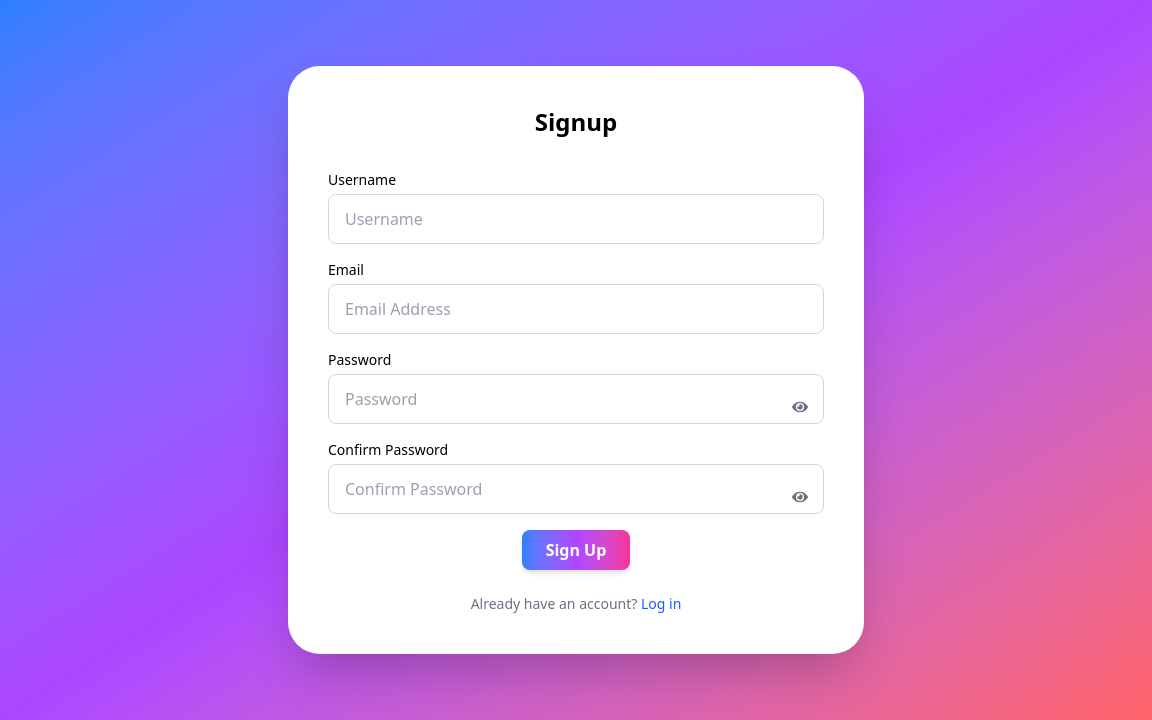
Scenario: Signup Component › shows validation error for short password
The width and height of the screenshot is (1152, 720).
Type "newuser" into the field labelled "Username". click: (576, 219)
box: x1=328 y1=194 x2=824 y2=244
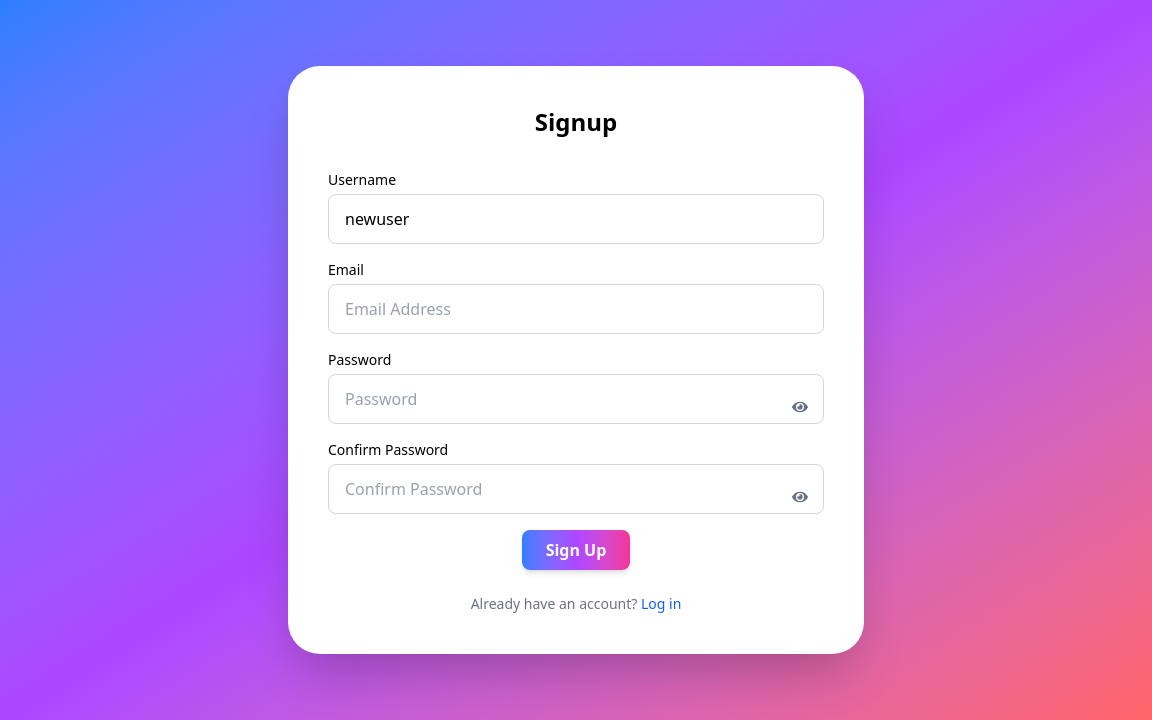
Type "newuser@example.com" into the field labelled "Email". click: (576, 309)
box: x1=328 y1=284 x2=824 y2=334
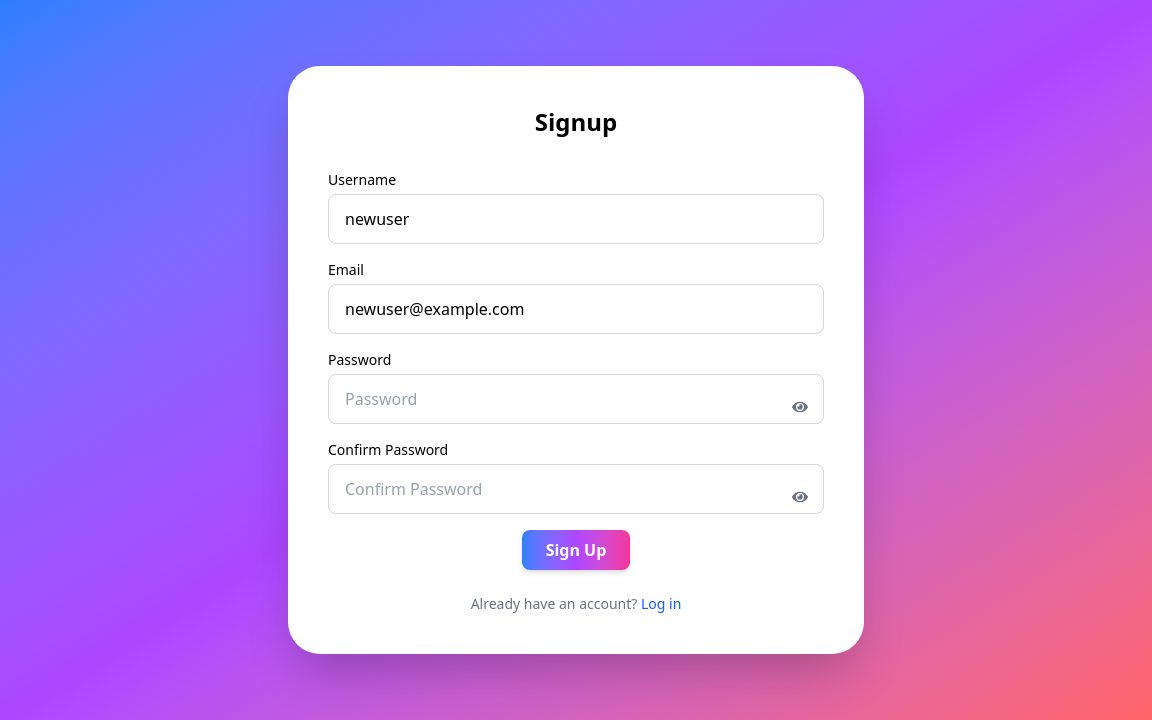
Type "short" into the password field labelled "Password". click: (576, 399)
box: x1=328 y1=374 x2=824 y2=424
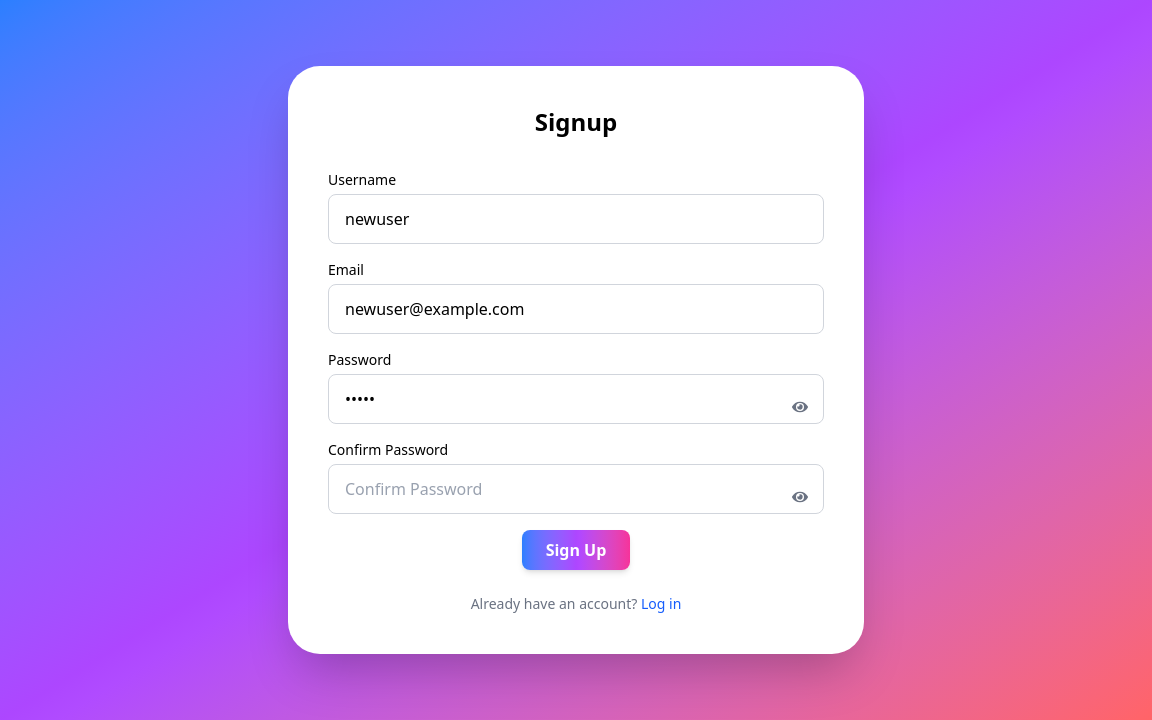
Type "short" into the password field labelled "Confirm Password". click: (576, 489)
box: x1=328 y1=464 x2=824 y2=514
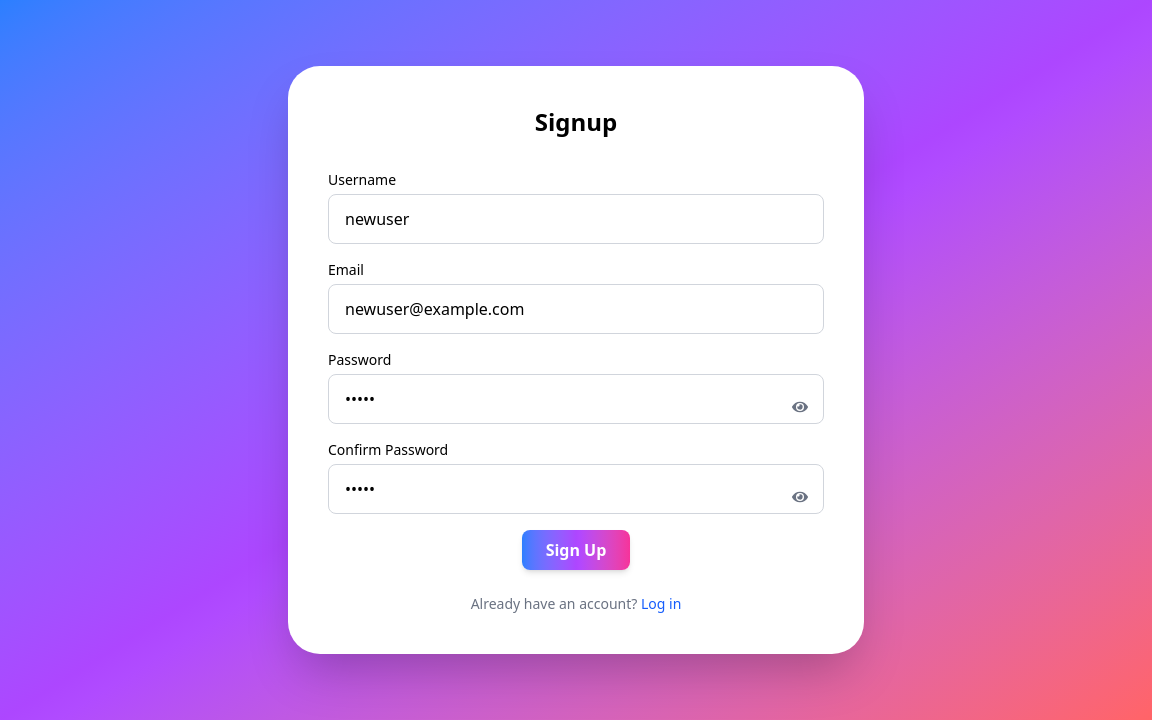
Click the button "Sign Up". click: click(576, 550)
box: x1=522 y1=530 x2=630 y2=570
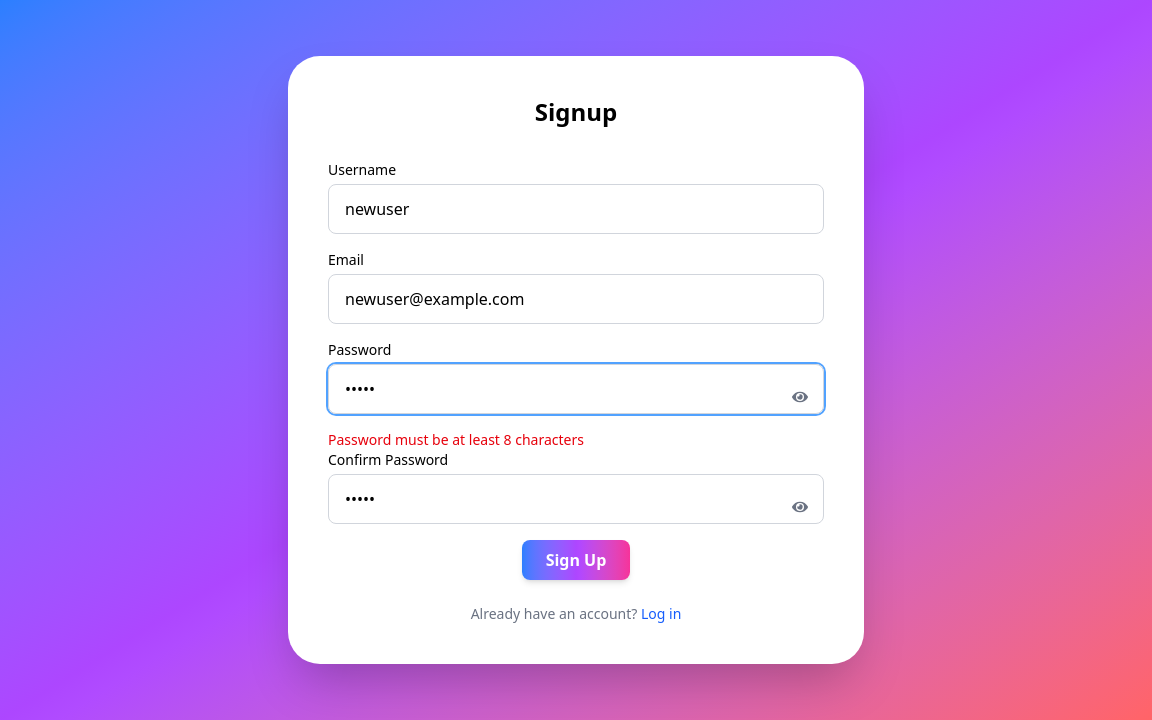
Expected: the text with test id "signup-error-password" reads "Password must be at least 8 characters", x1=328 y1=430 x2=584 y2=449
